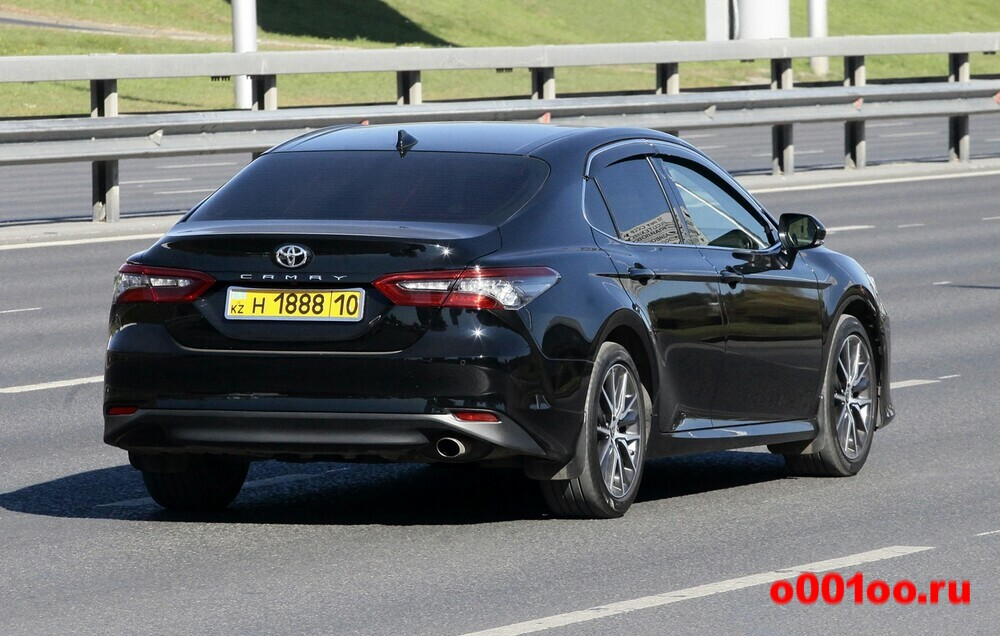license_plate: (226, 286, 364, 323)
